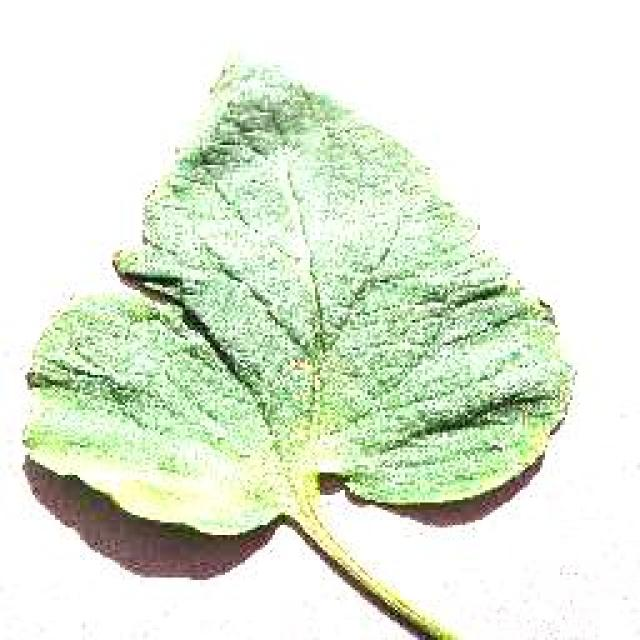Tomato___Target_Spot: (25, 65, 572, 638)
